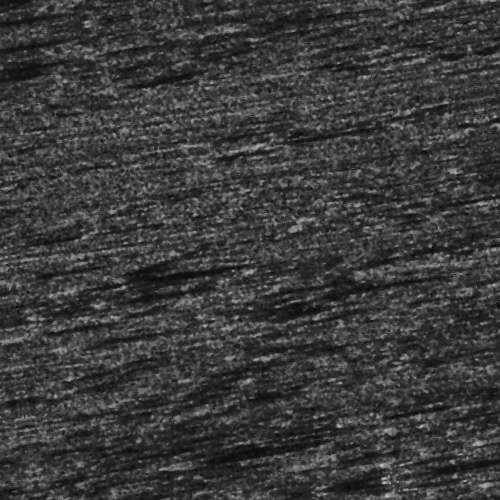object: (44, 256, 117, 265), (158, 494, 231, 500), (125, 445, 166, 452), (281, 141, 292, 154), (0, 8, 10, 13)
shadow: (287, 141, 400, 154), (81, 256, 233, 265), (146, 445, 284, 452), (195, 494, 252, 500), (0, 8, 54, 13)
